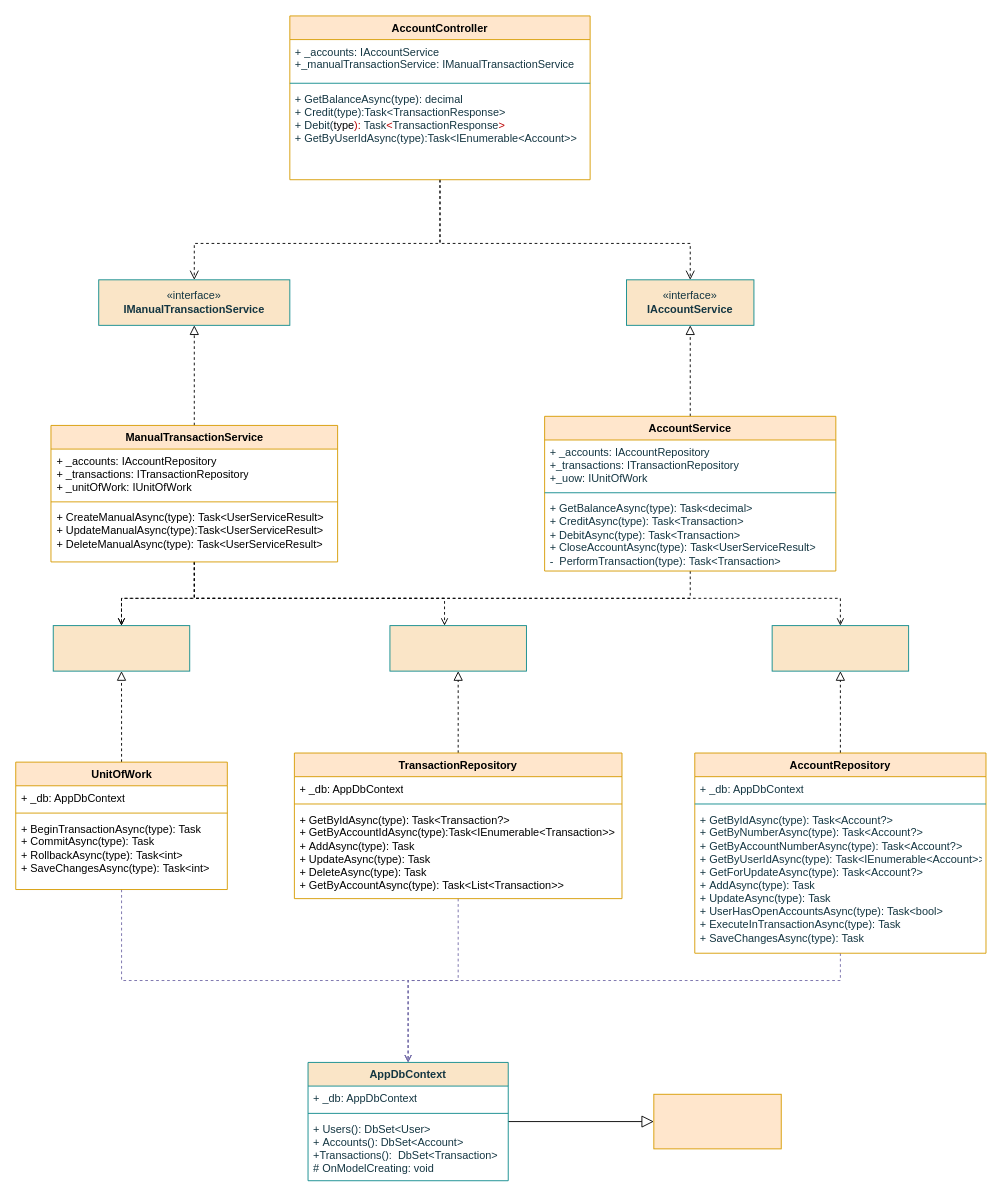
Some shapes in this 1003 by 1199 pixel diagram are drawn without their labels. Here are the shapes that lost their labels. From the top down, the centre of each, then its label:
(121,648): «interface» IUnitOfWork
(457,648): «interface» ITransactionRepository
(840,648): «interface» IAccountRepository
(717,1121): DbContext
